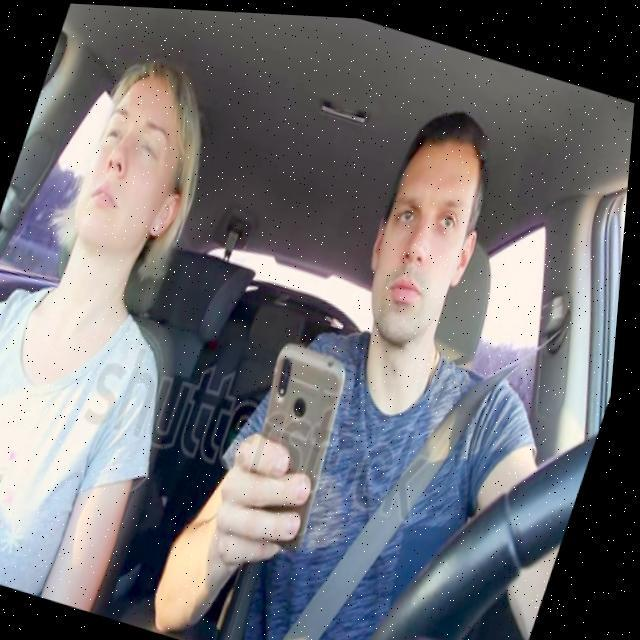PhoneCall: (226, 332, 372, 556)
